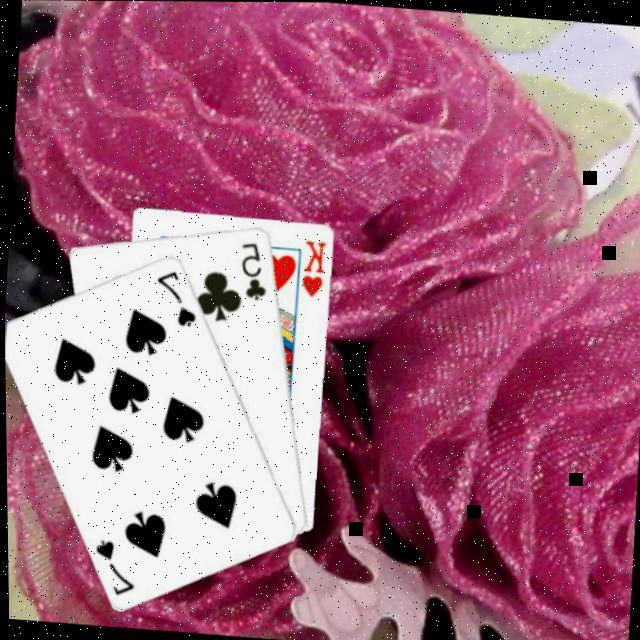5C: (236, 236, 273, 302)
7S: (89, 533, 141, 598), (151, 264, 203, 328)
KH: (299, 236, 330, 300)
